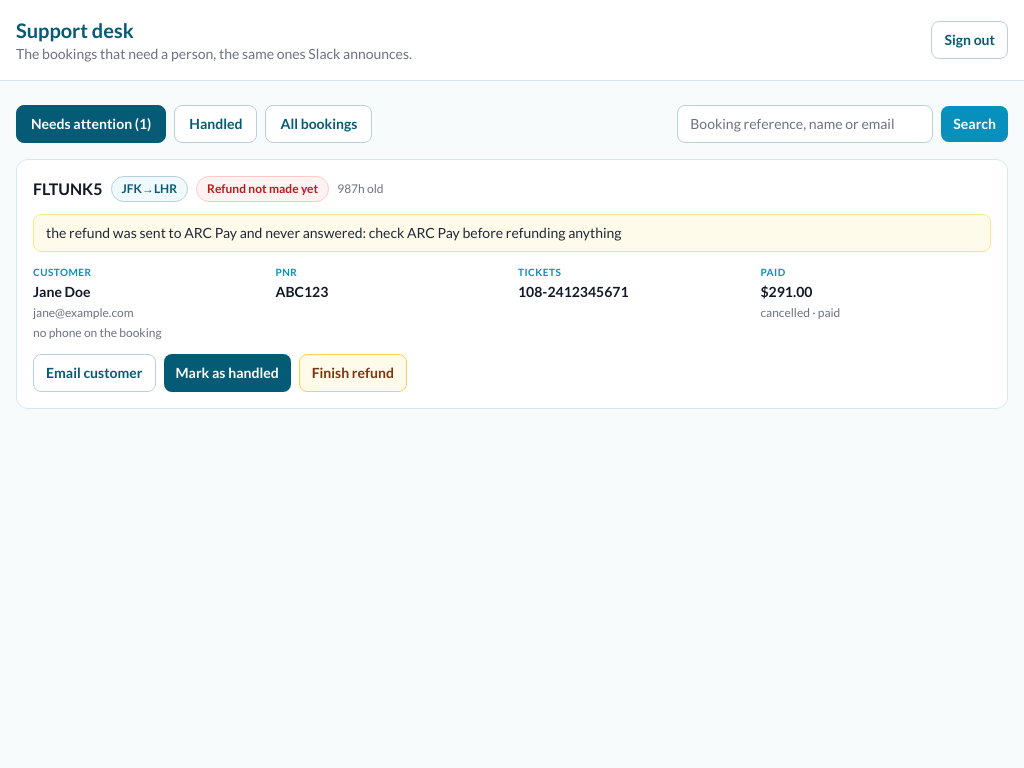
Scenario: the desk › offers what the cancel decided once ARC Pay shows nothing returned
Click the button "Finish refund".
click(353, 373)  # box [299, 354, 407, 392]
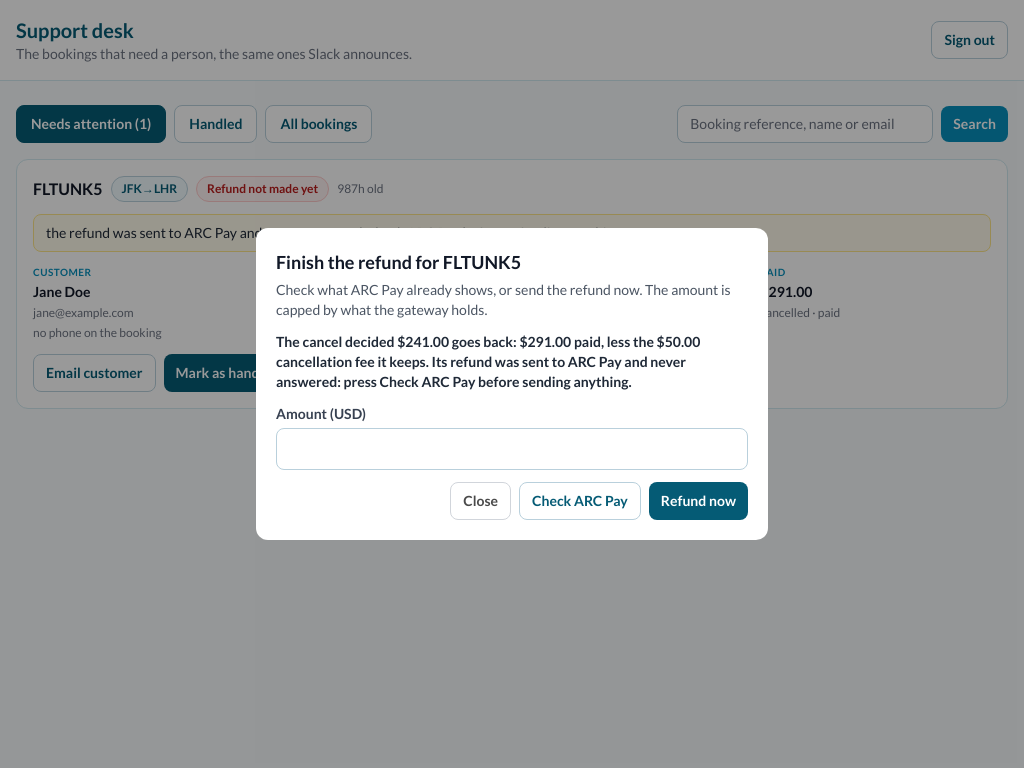
Click the button "Check ARC Pay".
click(580, 501)  # box [519, 482, 641, 520]
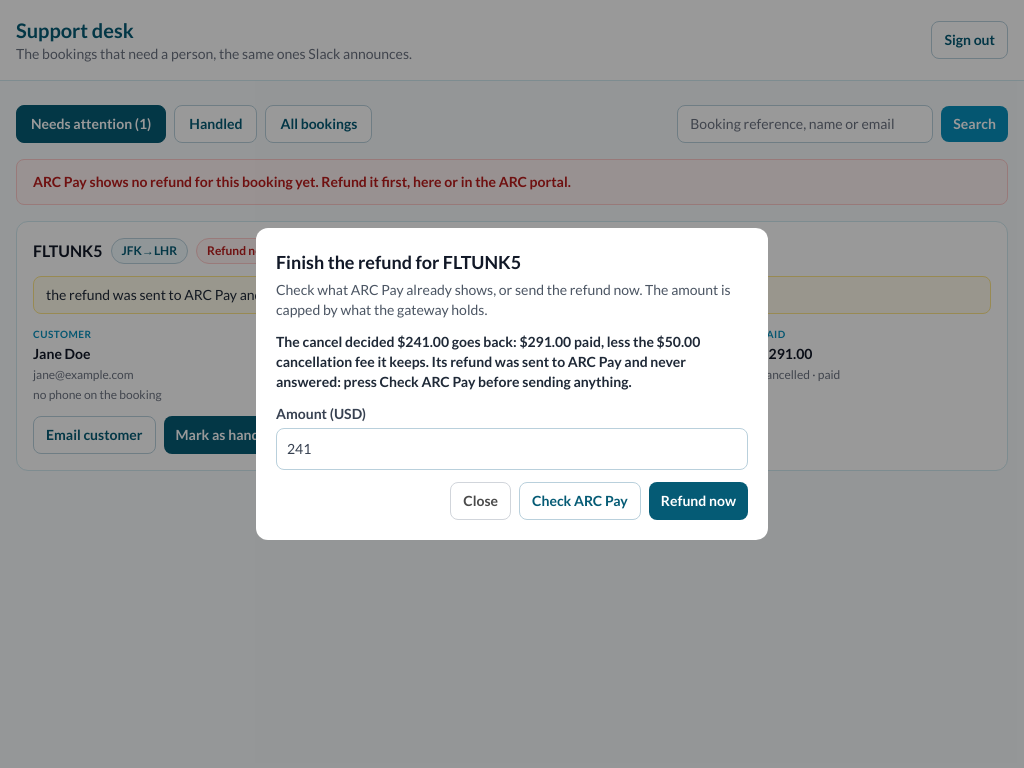
Now the field labelled "Amount (USD)" holds "241", box [276, 428, 748, 470]
